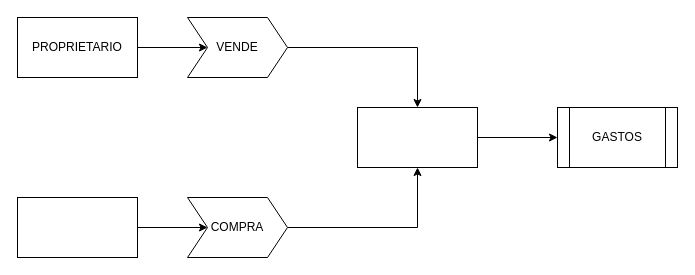
The diagram is 695 pixels wide and 275 high, and some of its shapes have lost their labels. Here are the shapes that lost their labels. From the top down, the centre of each, then its label:
point 417,137: IMOVEL
point 77,227: CLIENTE
